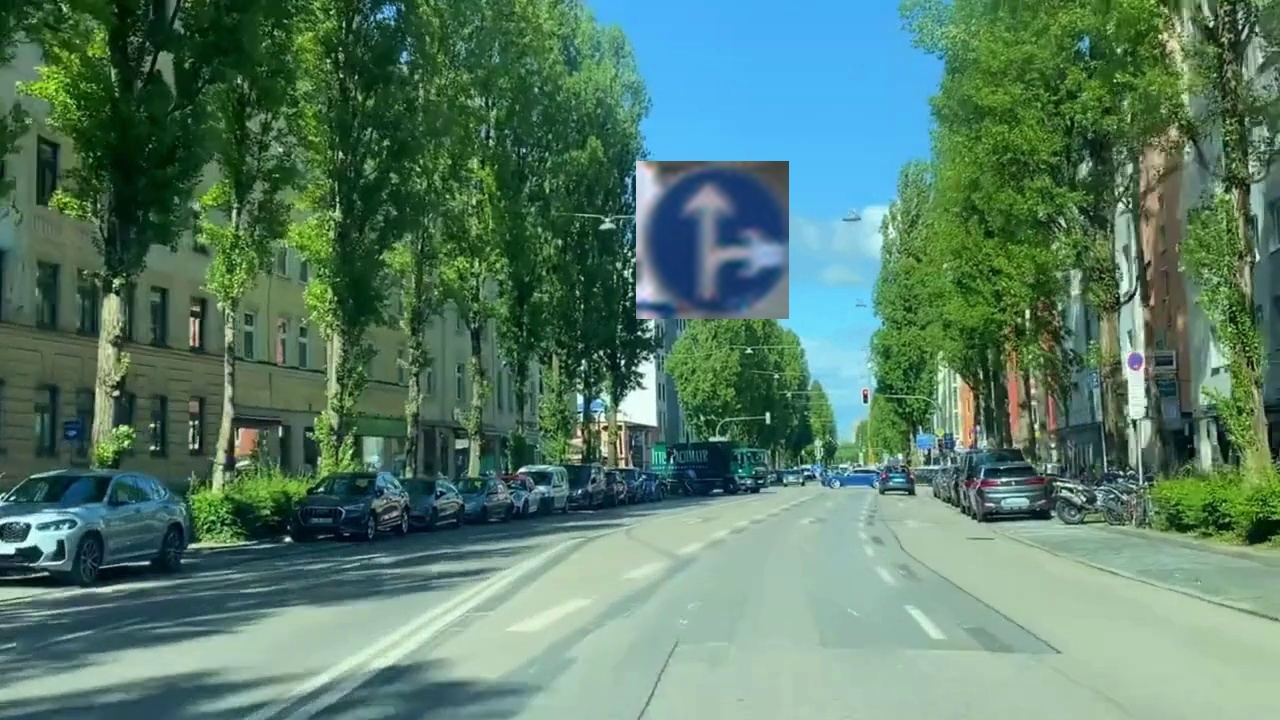Straight/right: (636, 161, 789, 319)
